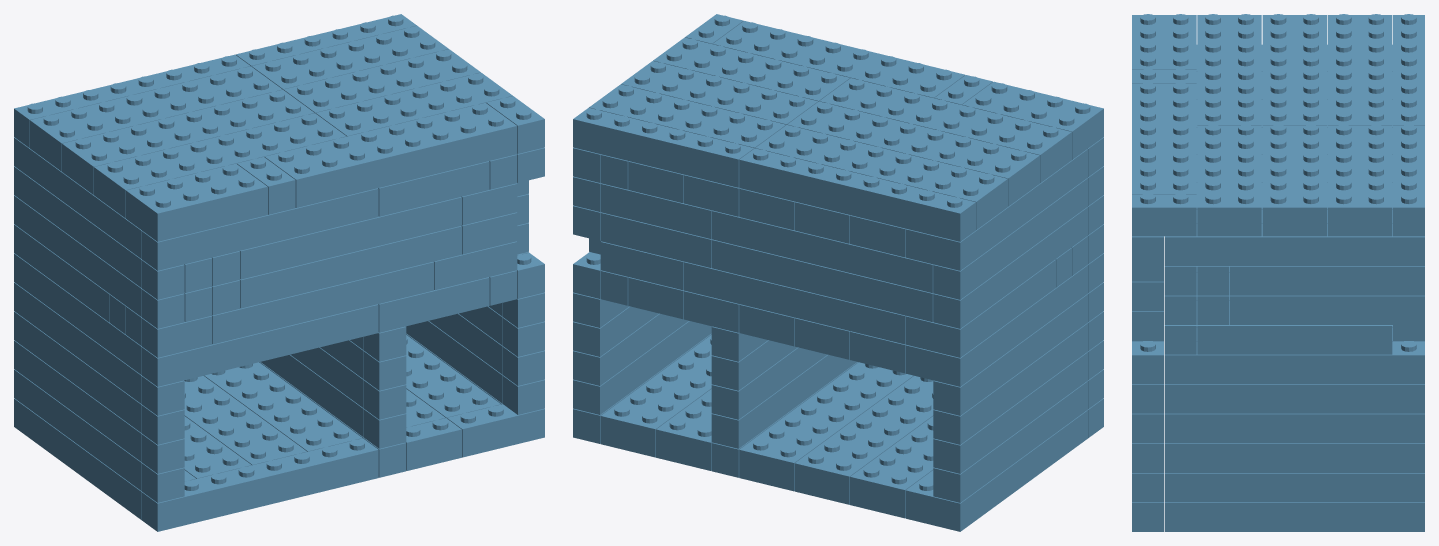
File: 067_bookshelf_L2.glb
The picture shows the model from 3 angles, left to right: view 1: azimuth 30°, elevation 25°; view 2: azimuth 150°, elevation 25°; view 3: azimuth 270°, elevation 25°; orthographic projection.
Size of the model in its own units: 13.98 by 11.13 by 8.98.
